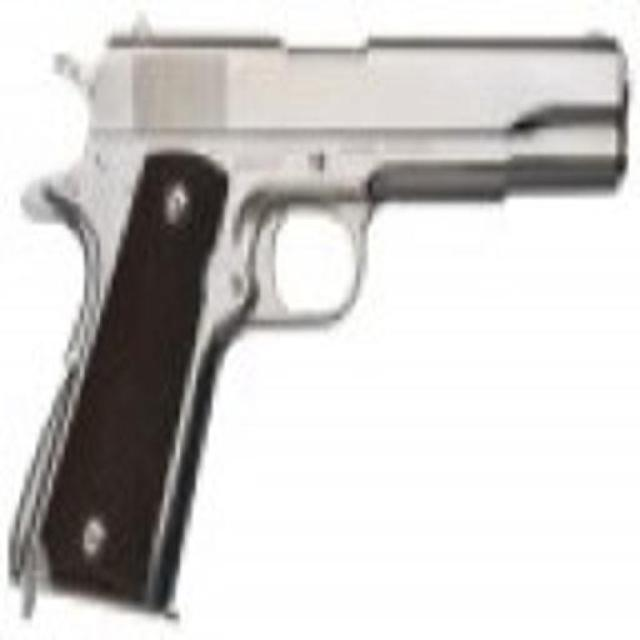pistol: (15, 10, 620, 629)
